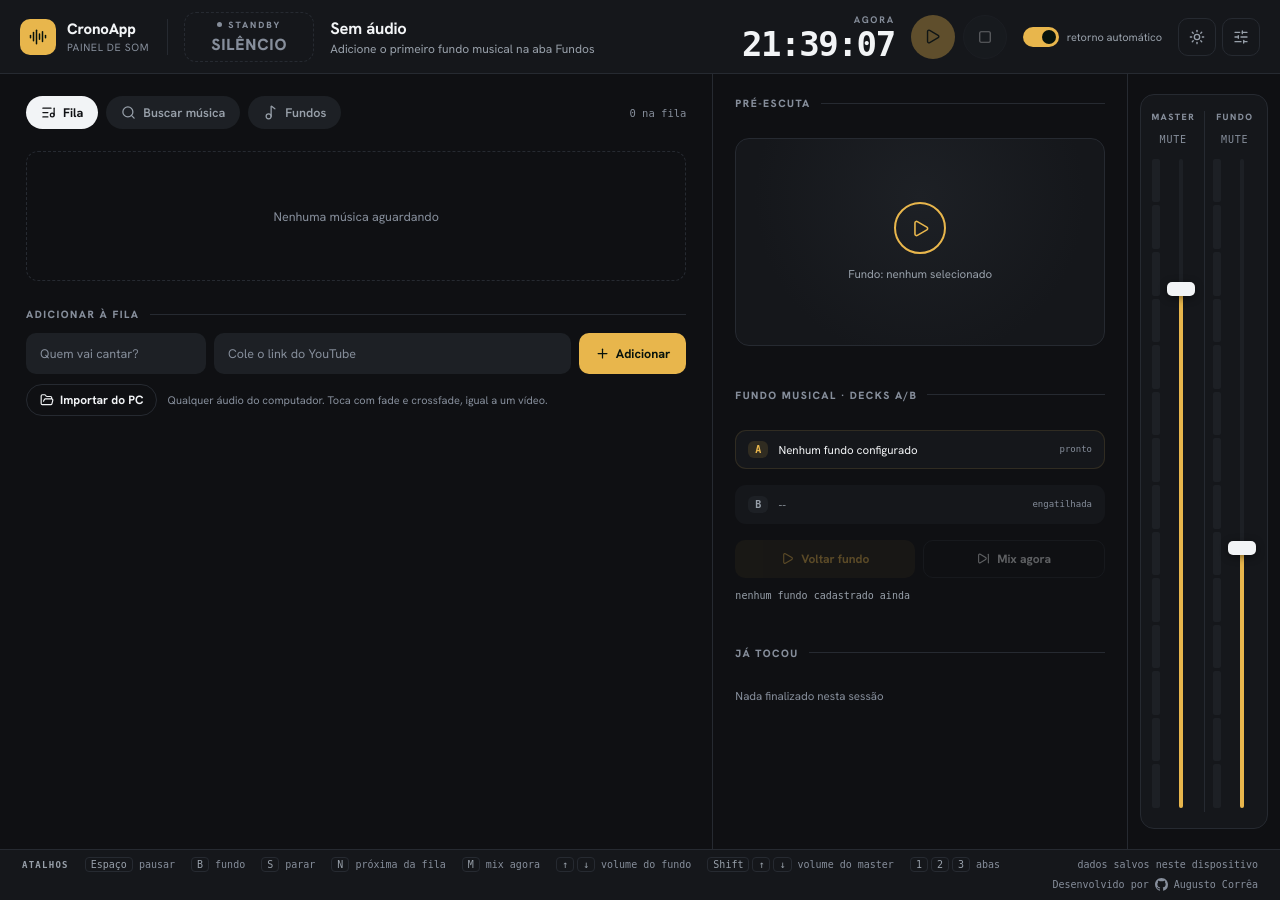
tocar (RF-01.7) › põe o item no ar, carrega o vídeo e sobe com fade
Type "Ana" into the field named "Nome da pessoa". click: (116, 354)
box: [26,333,206,374]
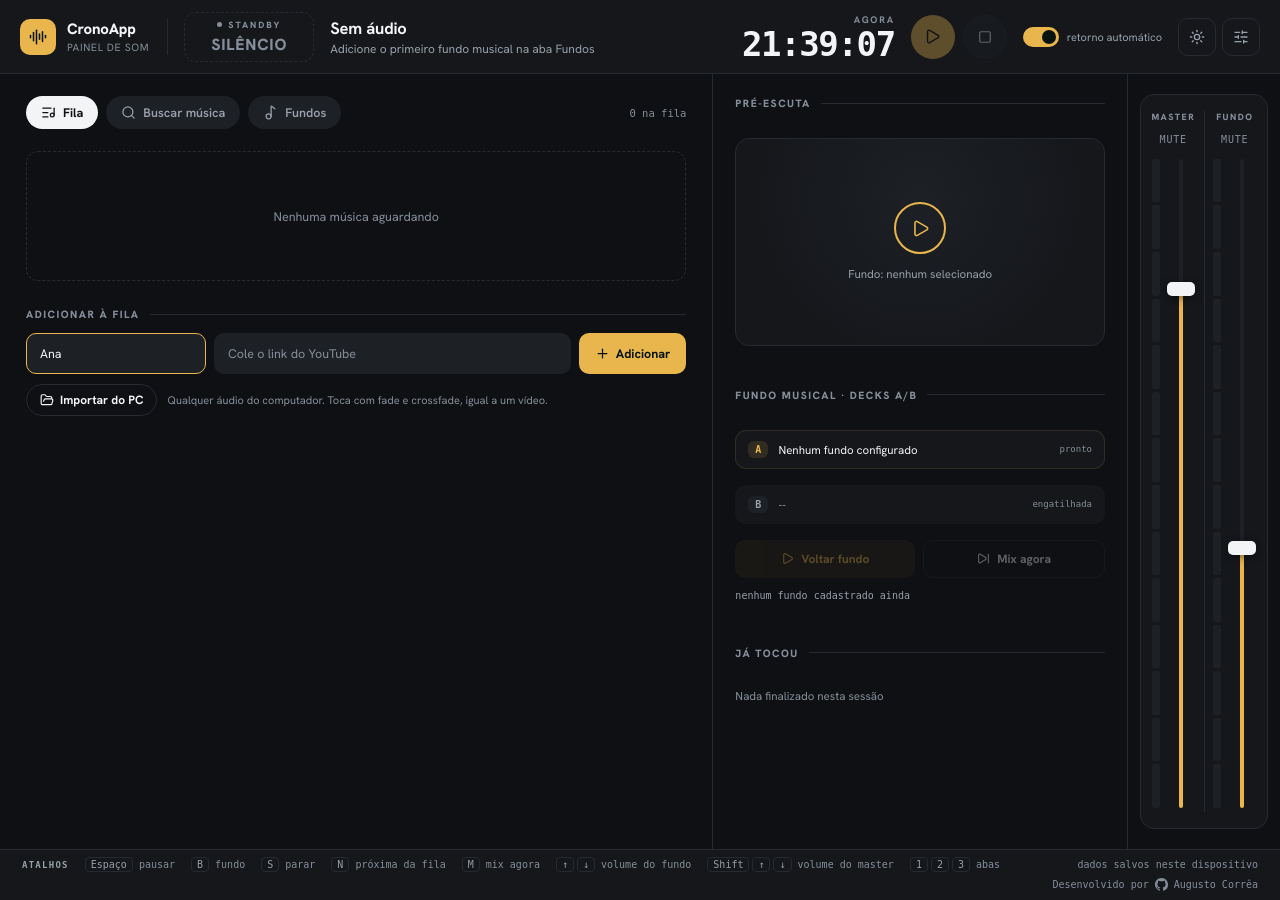
Type "https://youtu.be/dQw4w9WgXcQ" into the field labelled "link do YouTube". click: (392, 354)
box: [214,333,571,374]
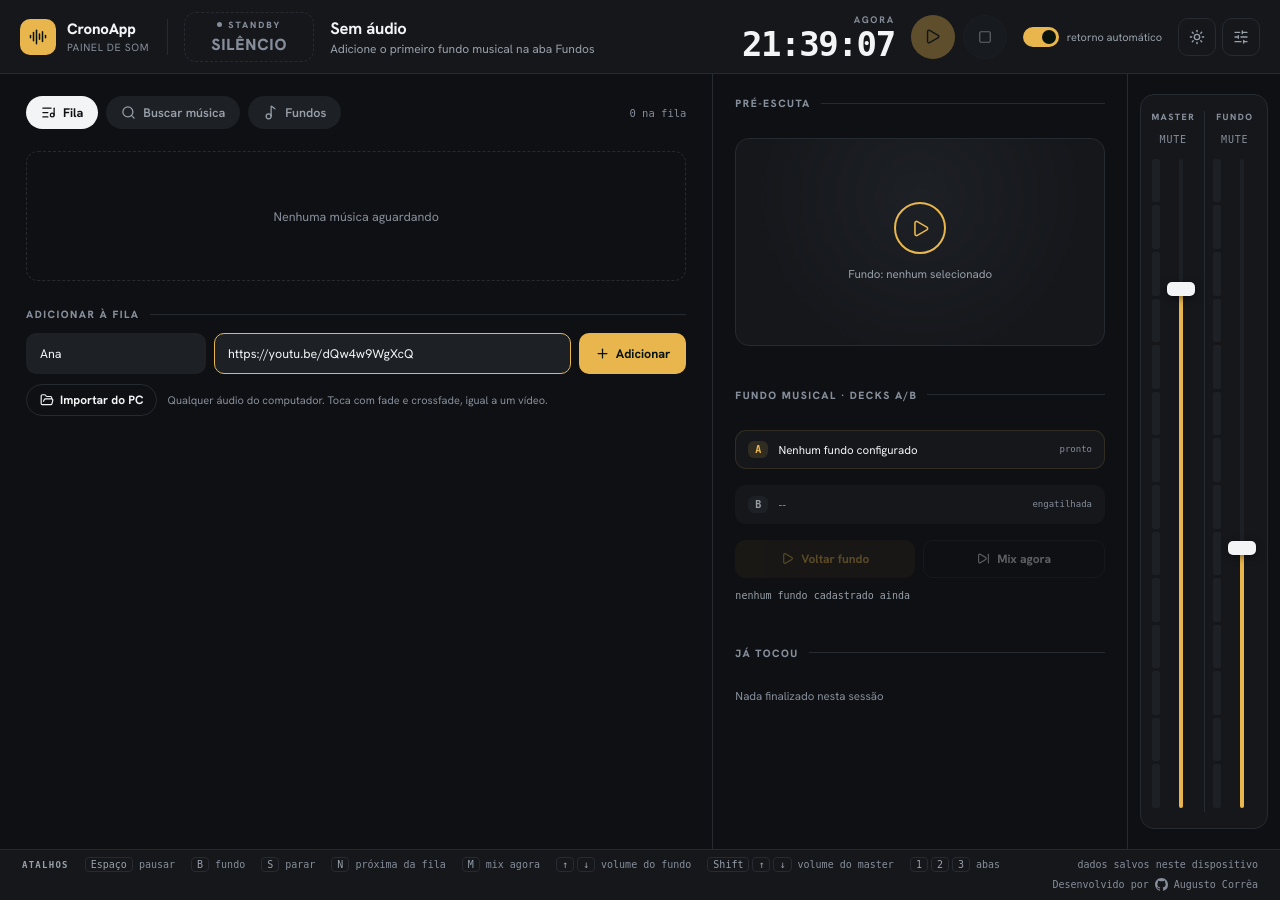
Click the button "Adicionar". click: (633, 354)
box: [579,333,686,374]
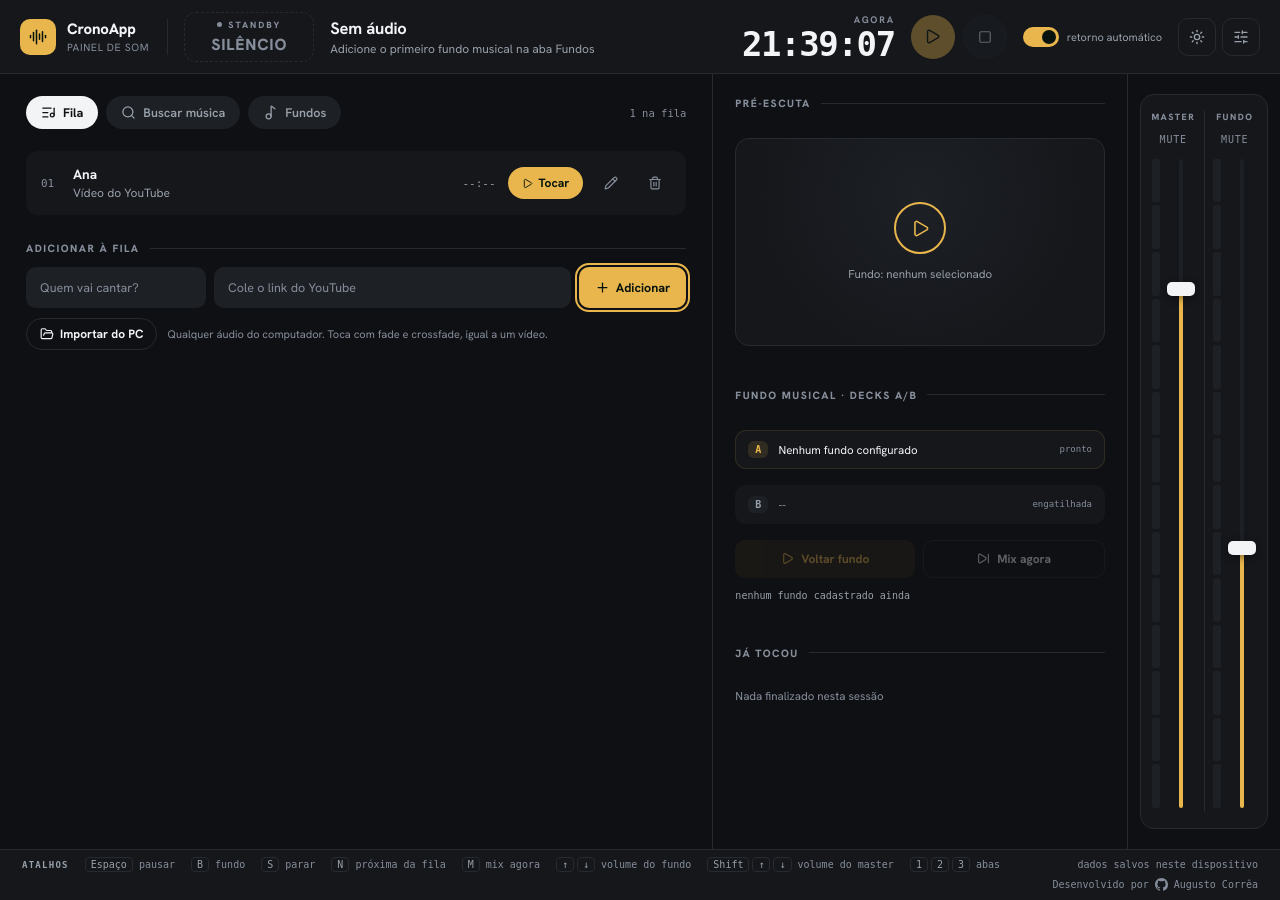
Click the button with aria-label "Tocar Ana". click: (546, 183)
box: [508,167,583,199]
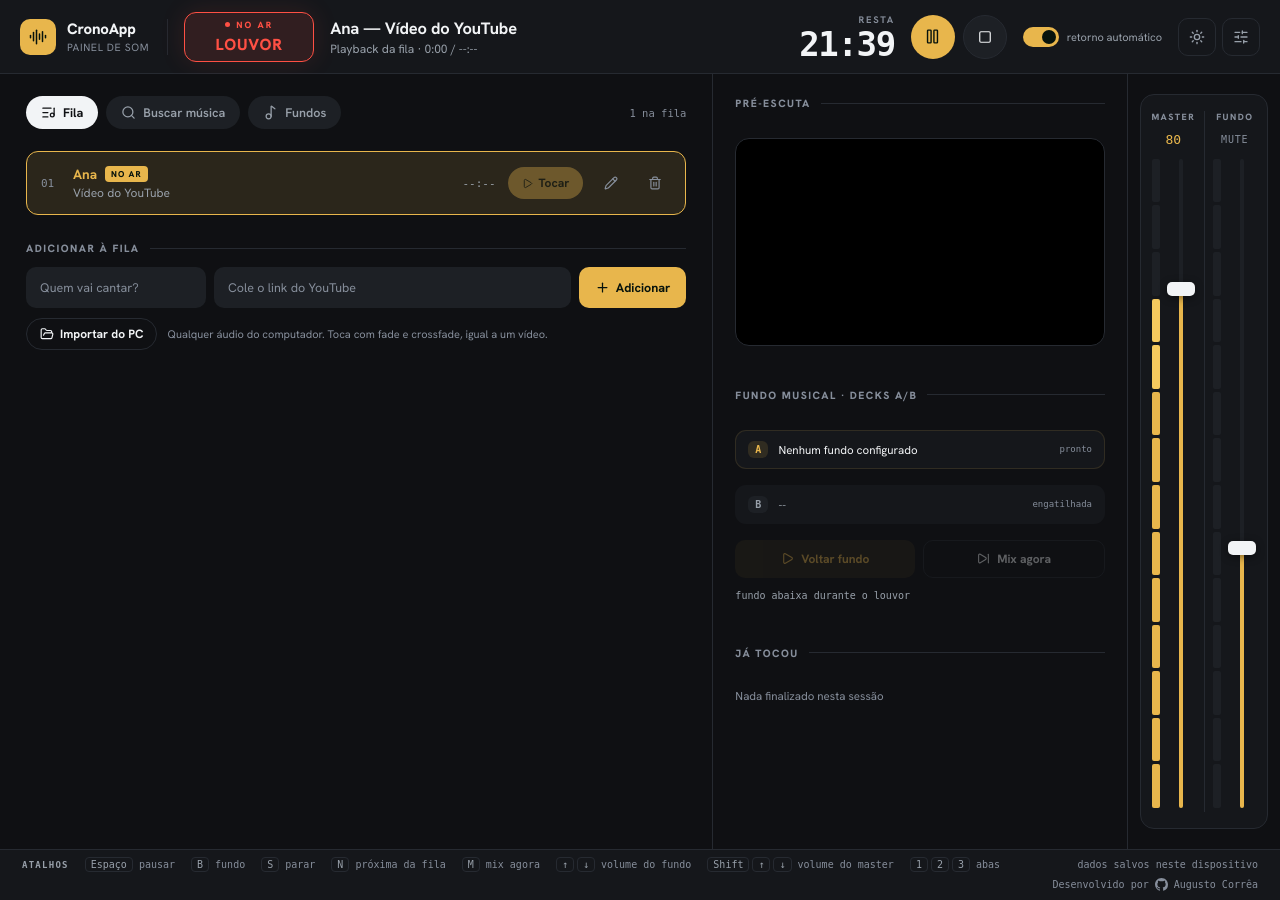
Expected: the element with class "on-air" shows "NO AR", [236,18,273,30]
Expected: the element with class "on-air" shows "LOUVOR", [216,34,283,54]
